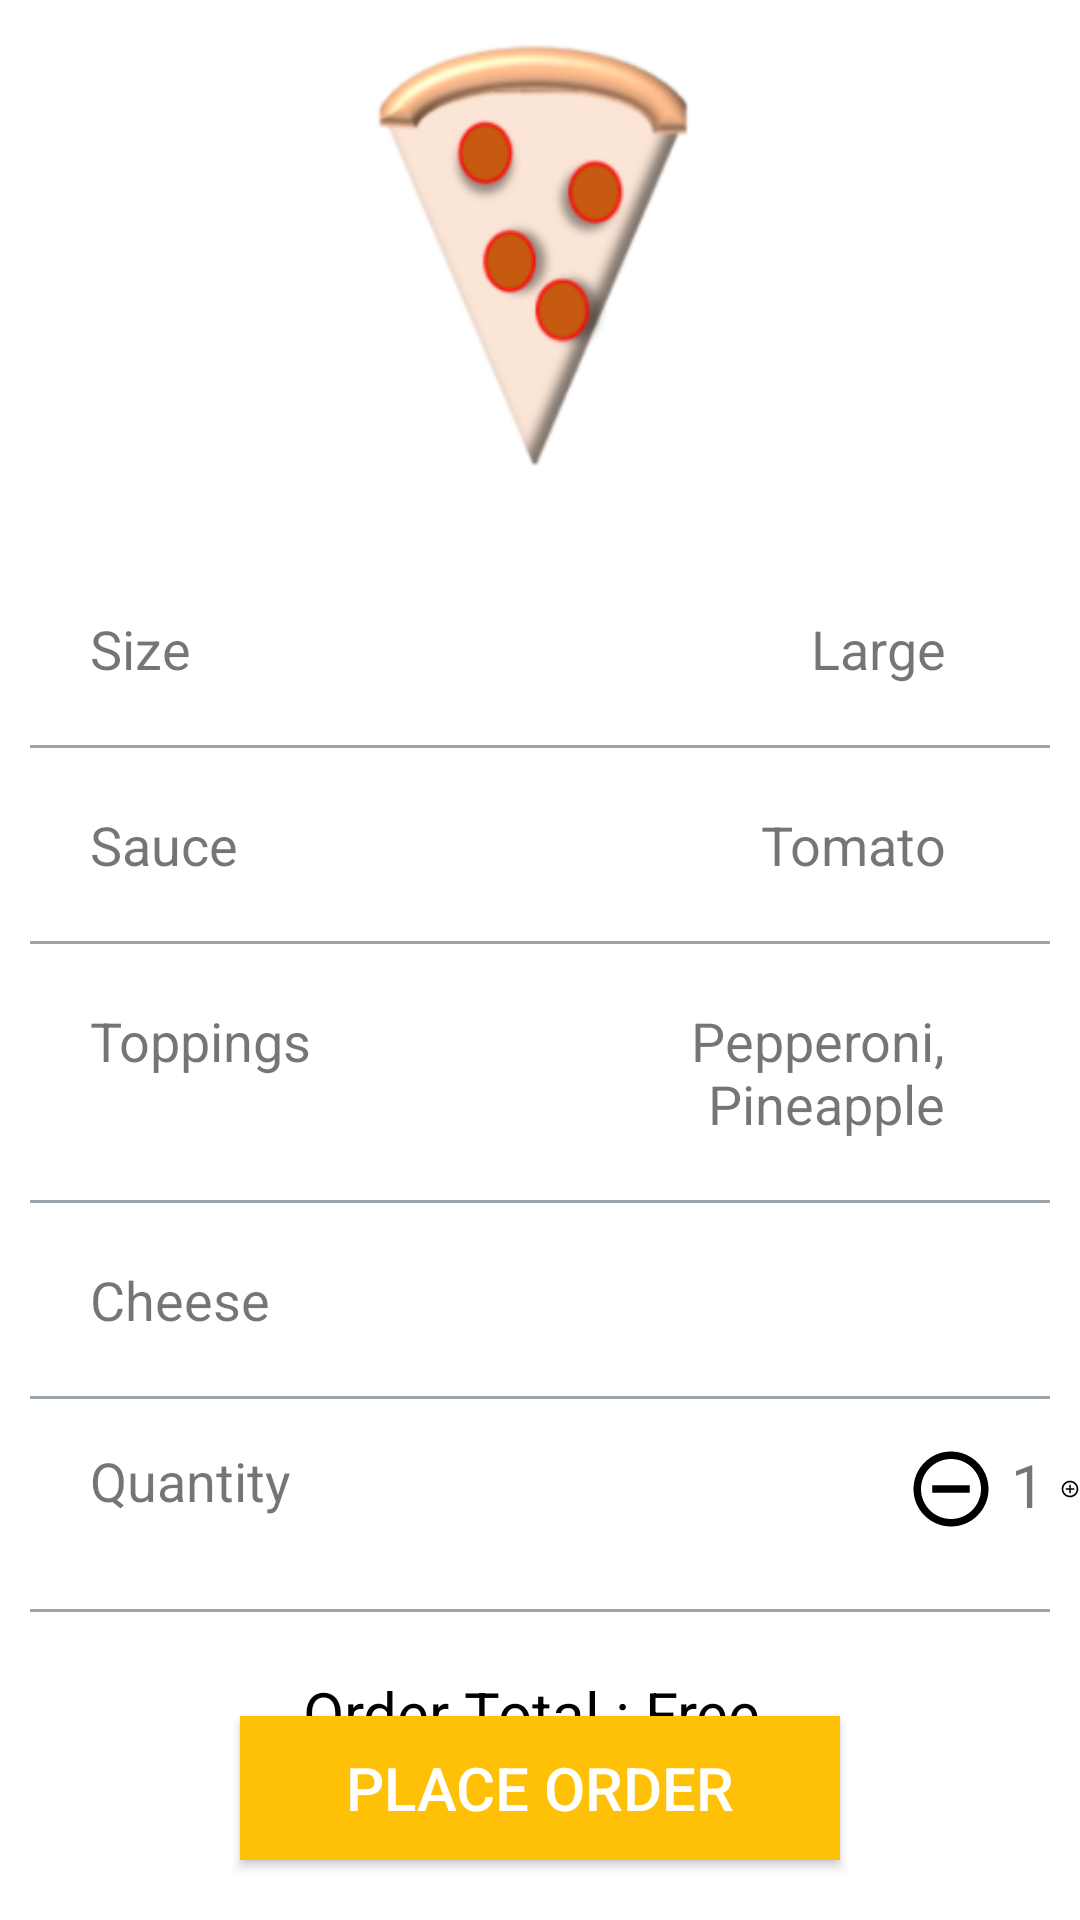

Named icons in this screenshot (1080 × 1920) and their bounding boxes, (x1, y1, x2, y2):
remove circle: (913, 1451, 989, 1527)
